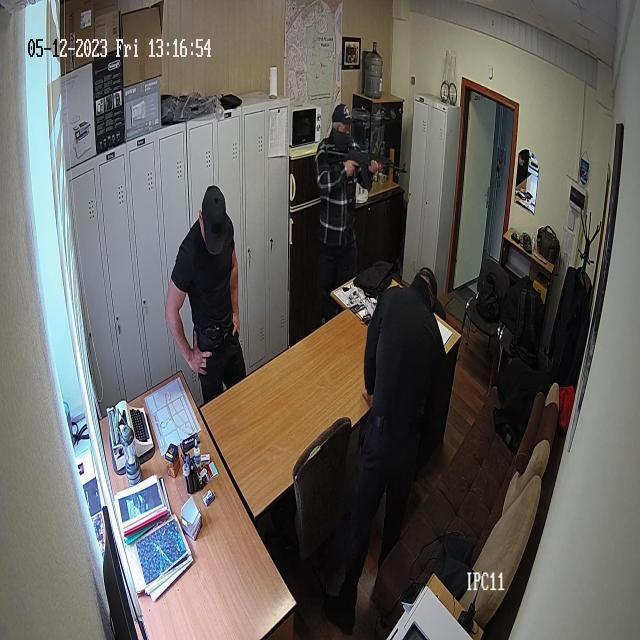pistol: (320, 146, 408, 194)
